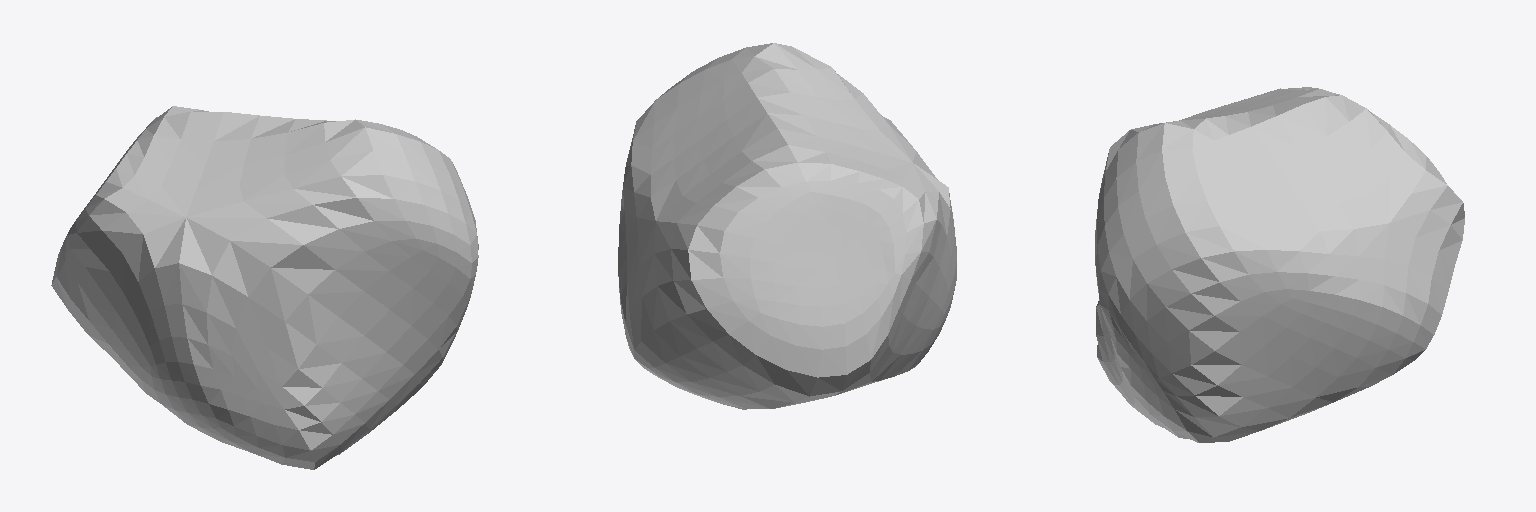
File: rock.obj
3 views of the same model, side by side, from view 1: azimuth 30°, elevation 25°; view 2: azimuth 150°, elevation 25°; view 3: azimuth 270°, elevation 25° (orthographic).
Parts seen in each view (by area): view 1: rock_Cube.001; view 2: rock_Cube.001; view 3: rock_Cube.001.
Boxes of the visible parts, box(x1,y1,x2,y2) form: rock_Cube.001: box(51, 106, 478, 469); rock_Cube.001: box(618, 43, 956, 409); rock_Cube.001: box(1095, 87, 1464, 442).
Size of the model in its own units: 0.4033 by 0.3672 by 0.3896.